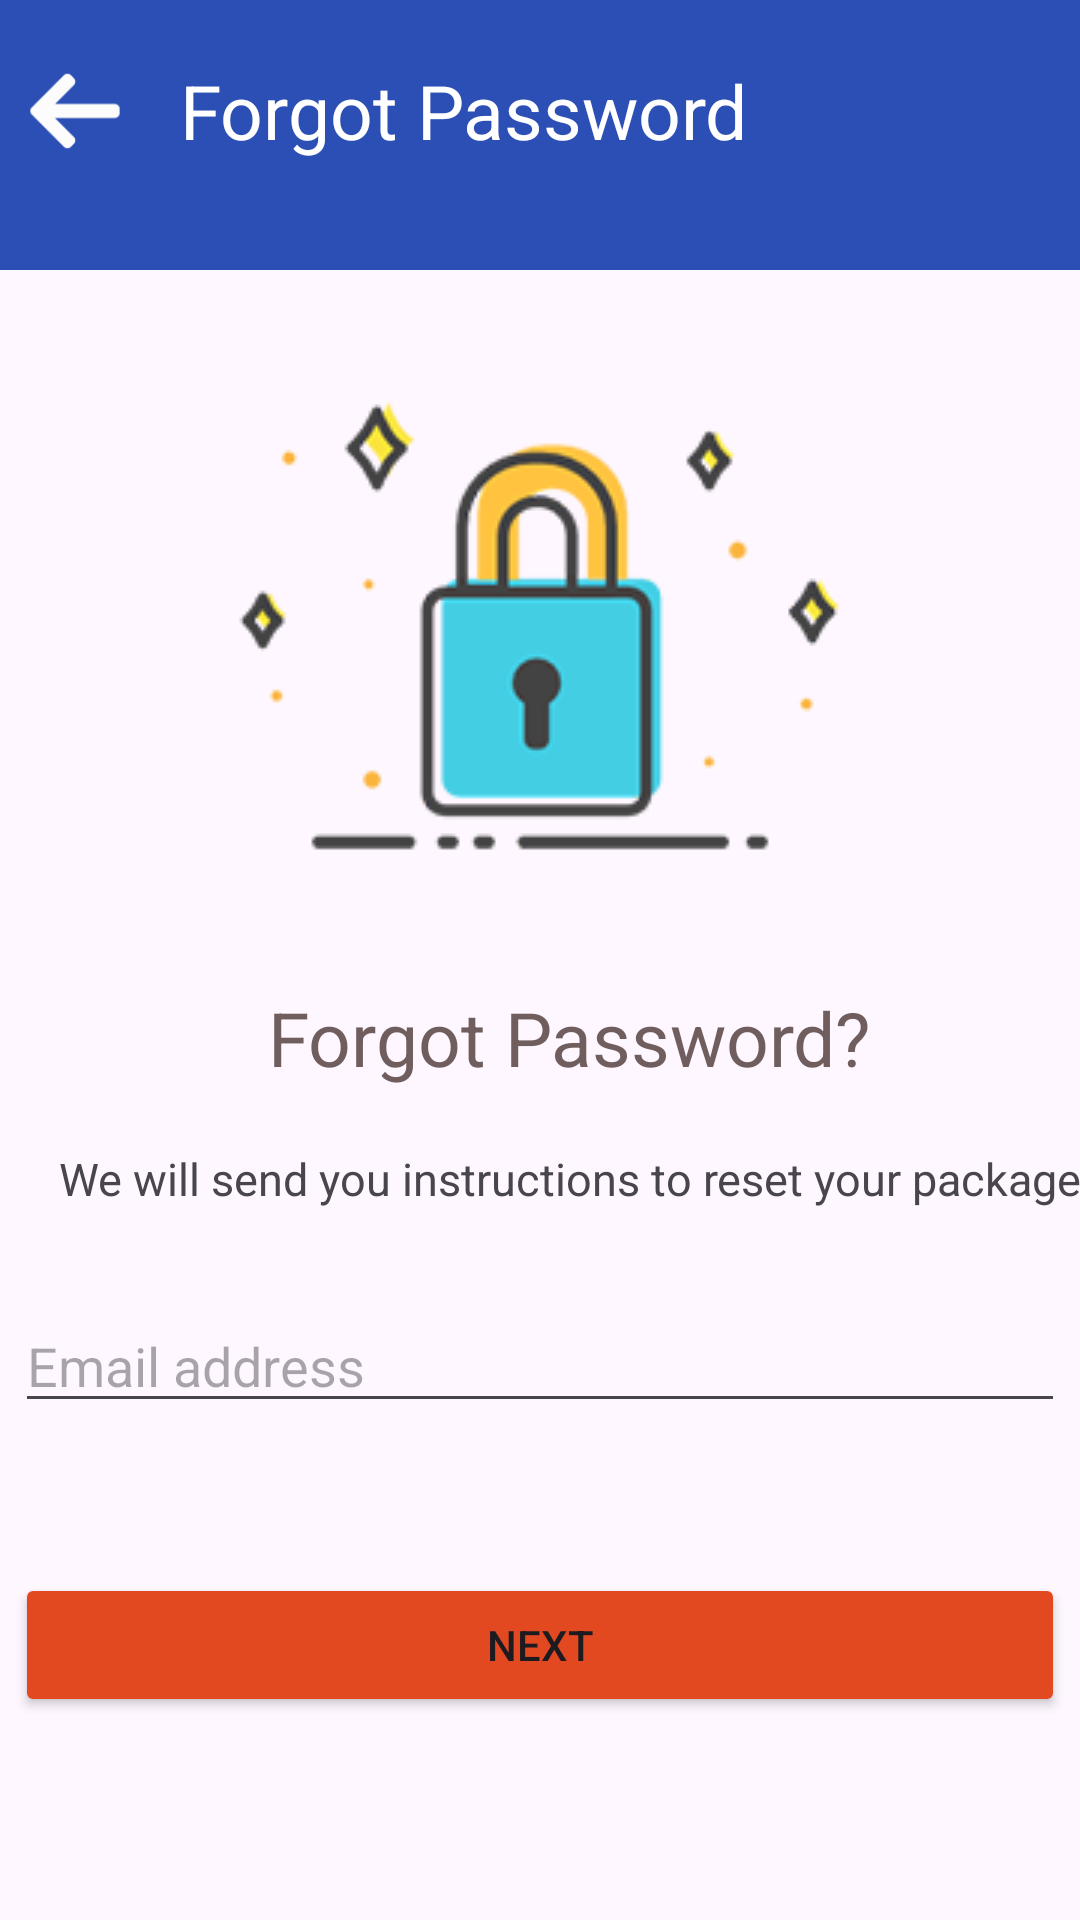

Locate icon controls on the screen. Image size 1080 × 1920, boxes as (x1, y1, x2, y2).
arrow left: (30, 73, 120, 149)
